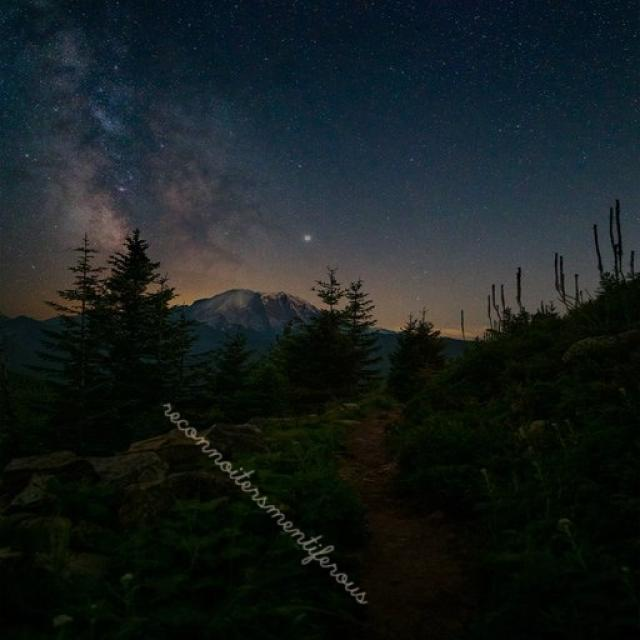watermark: (152, 386, 384, 611)
